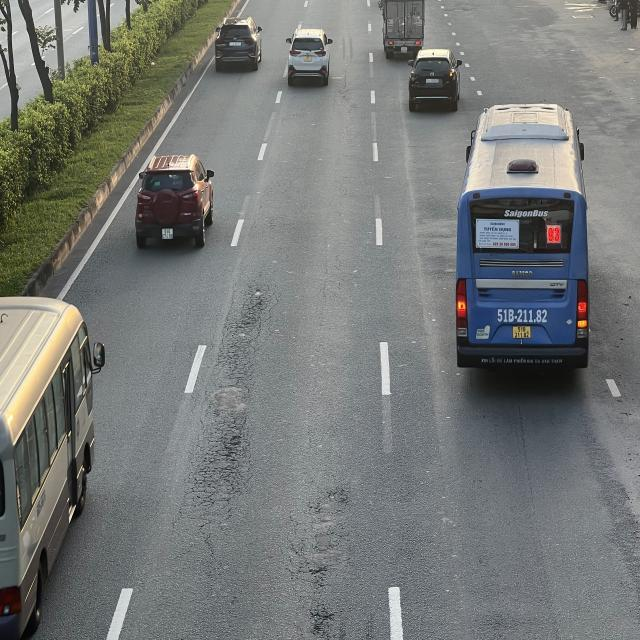car: (133, 156, 214, 250), (406, 48, 462, 112), (288, 30, 336, 88), (212, 17, 262, 72)
coach: (0, 296, 103, 639), (454, 99, 584, 370)
truck: (381, 1, 426, 56)
